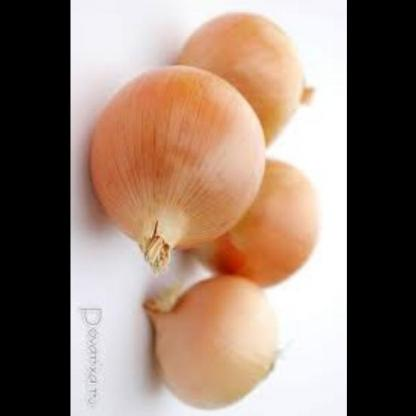onion: (88, 66, 268, 257), (171, 8, 307, 156), (144, 276, 288, 414), (188, 155, 323, 283)
